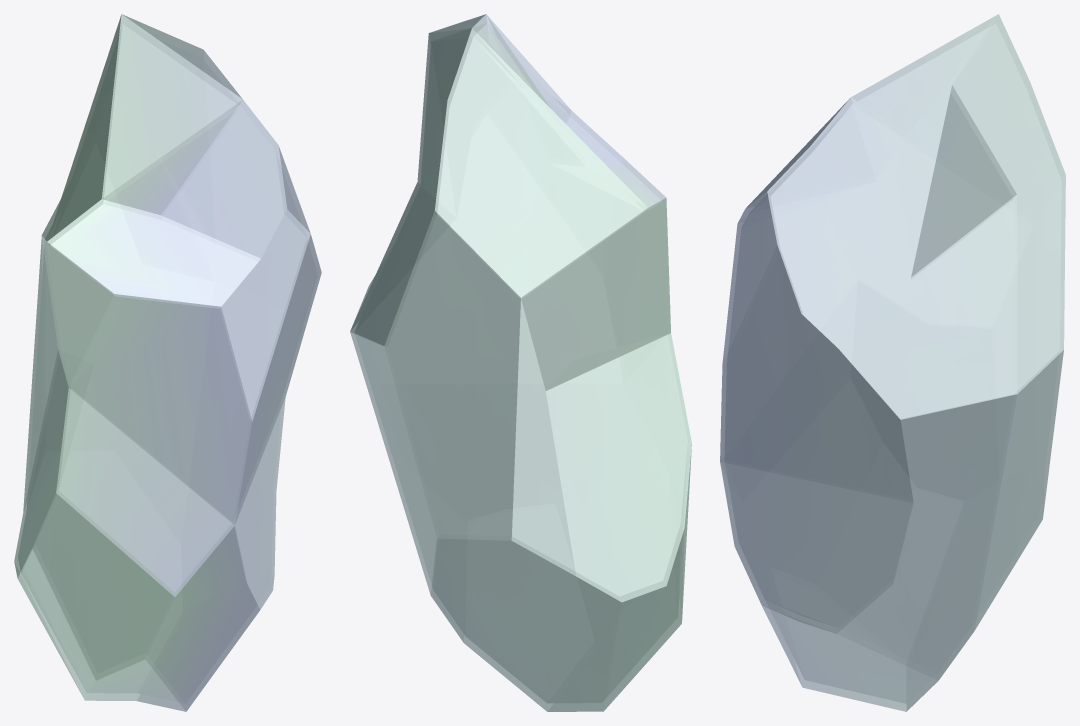
The model's file is diamond.glb.
3 views of the same model, side by side, from view 1: azimuth 30°, elevation 25°; view 2: azimuth 150°, elevation 25°; view 3: azimuth 270°, elevation 25° (orthographic). The views are drawn at different scales.
Visible parts, largest first — view 1: diamond1, diamond2; view 2: diamond1, diamond2; view 3: diamond1, diamond2.
Boxes of the visible parts, x1,y1,x2,y2 form: diamond1: (14, 14, 321, 711); diamond2: (18, 24, 317, 703); diamond1: (350, 14, 691, 711); diamond2: (355, 23, 687, 702); diamond1: (720, 14, 1065, 711); diamond2: (724, 24, 1061, 703).
Size of the model in its own units: 15.91 by 35.16 by 15.47.
1 material, 1 textured.
